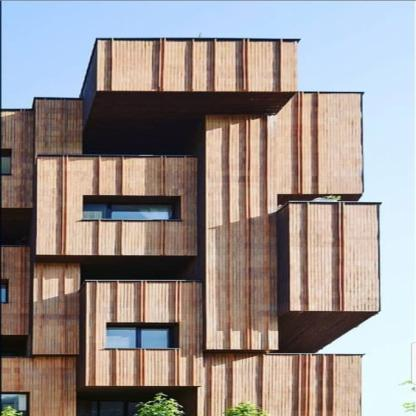Balcony: (289, 203, 379, 236)
Building Outline: (0, 37, 379, 416)
Dont: (132, 392, 187, 416), (221, 400, 271, 416), (0, 405, 25, 416)
Facade: (1, 109, 364, 416)
Floor: (0, 236, 379, 307), (0, 109, 364, 180), (0, 361, 363, 416), (0, 184, 364, 232), (0, 311, 279, 357)
Floor Slab: (0, 232, 379, 236), (0, 308, 379, 312), (0, 181, 364, 185), (0, 358, 364, 362)
Window: (83, 203, 175, 220), (0, 392, 30, 416), (0, 149, 11, 174), (0, 280, 8, 303)
Window Hole: (75, 387, 198, 416), (81, 256, 197, 286), (82, 129, 200, 155), (83, 196, 182, 220), (107, 322, 179, 348), (107, 326, 173, 348), (278, 194, 364, 210), (0, 334, 29, 358), (1, 222, 28, 246)
